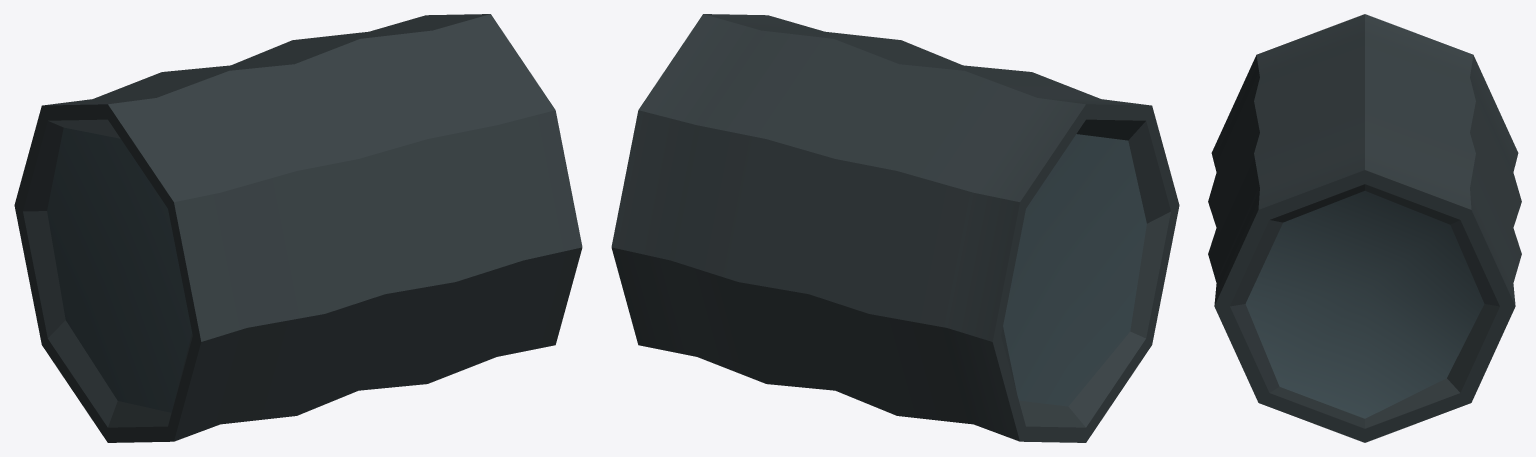
Rendered from Tin_can.fbx.
The picture shows the model from 3 angles, left to right: view 1: azimuth 30°, elevation 25°; view 2: azimuth 150°, elevation 25°; view 3: azimuth 270°, elevation 25°; orthographic projection. The views are drawn at different scales.
Parts seen in each view (by area): view 1: Tin_Can; view 2: Tin_Can; view 3: Tin_Can.
Boxes of the visible parts, left/top/right/bottom form: Tin_Can: left=14, top=14, right=582, bottom=442; Tin_Can: left=611, top=14, right=1179, bottom=442; Tin_Can: left=1208, top=14, right=1521, bottom=442.
Size of the model in its own units: 0.9698 by 0.8384 by 0.8384.
